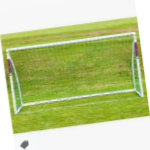goals: (5, 30, 147, 113)
